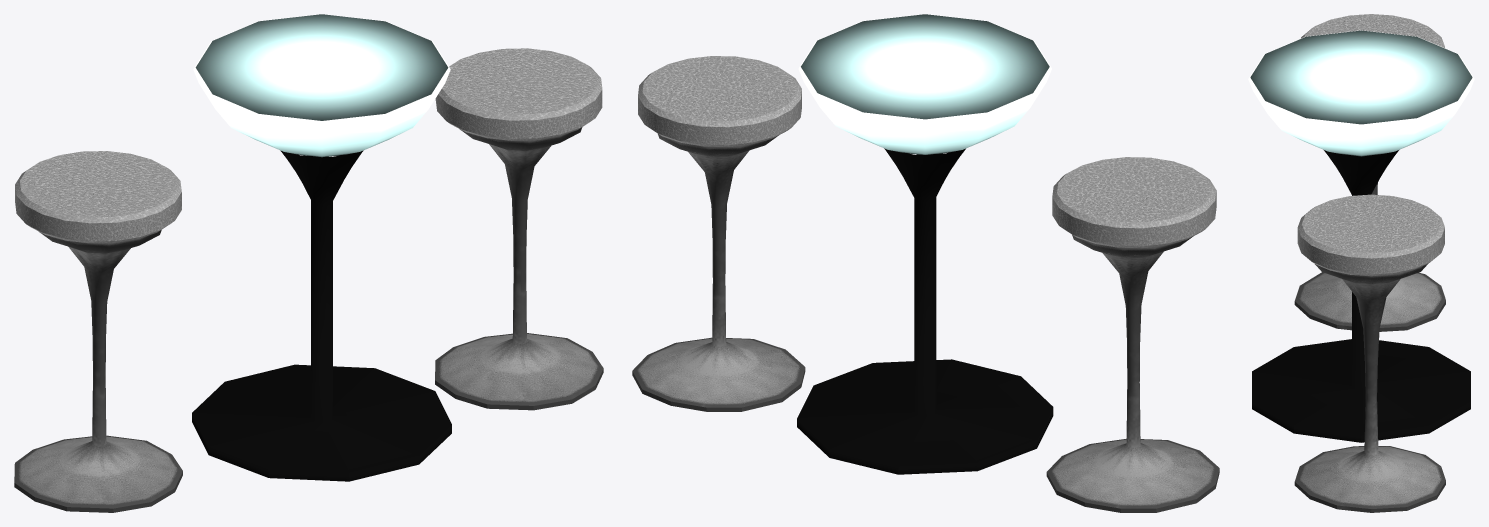
Rendered from Seating_Table.fbx.
The picture shows the model from 3 angles, left to right: view 1: azimuth 30°, elevation 25°; view 2: azimuth 150°, elevation 25°; view 3: azimuth 270°, elevation 25°; orthographic projection. The views are drawn at different scales.
Visible parts, largest first — view 1: pSphere5; view 2: pSphere5; view 3: pSphere5.
Part boxes in pixels (<box>): pSphere5: <box>14,14,603,512</box>; pSphere5: <box>632,14,1219,512</box>; pSphere5: <box>1248,14,1474,512</box>.
Bounding box in the file's own units: 184 × 112 × 72.25.
Materials: 2 (2 with a texture image).
